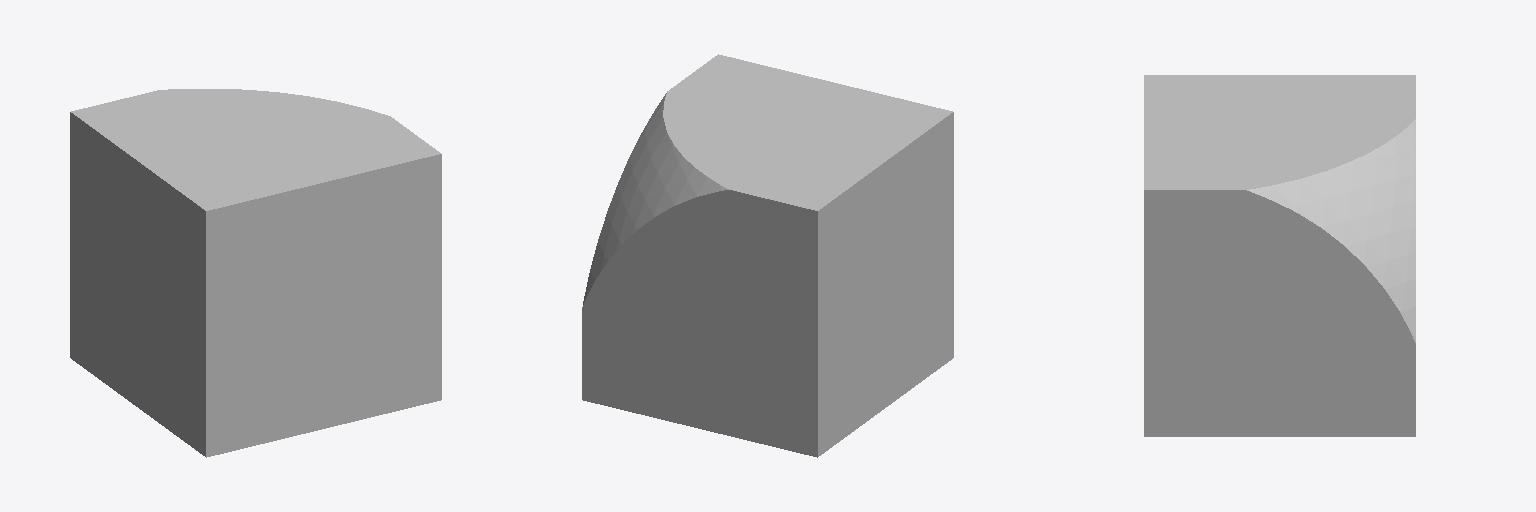
File: corner.obj
The picture shows the model from 3 angles: view 1: azimuth 30°, elevation 25°; view 2: azimuth 150°, elevation 25°; view 3: azimuth 270°, elevation 25°; orthographic projection.
Parts seen in each view (by area): view 1: Cube_Cube.001; view 2: Cube_Cube.001; view 3: Cube_Cube.001.
Boxes of the visible parts, x1,y1,x2,y2 form: Cube_Cube.001: [70, 89, 441, 457]; Cube_Cube.001: [582, 54, 953, 457]; Cube_Cube.001: [1144, 75, 1415, 436].
Bounding box in the file's own units: 1 × 1 × 1.